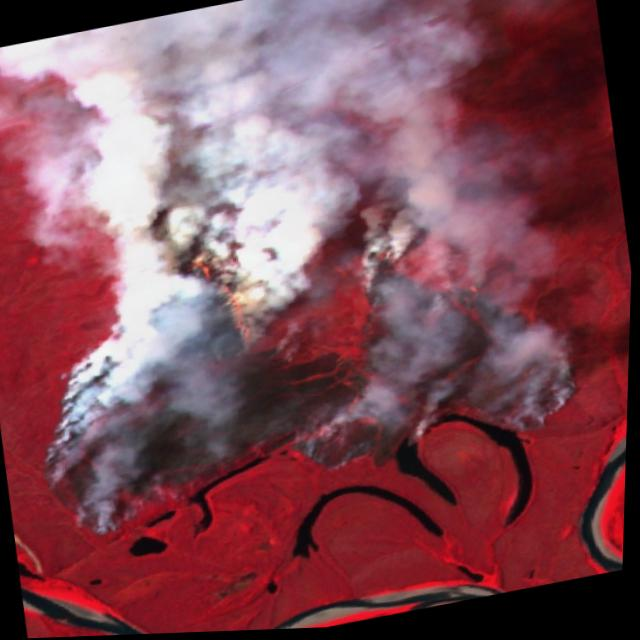fire: (0, 144, 617, 561)
